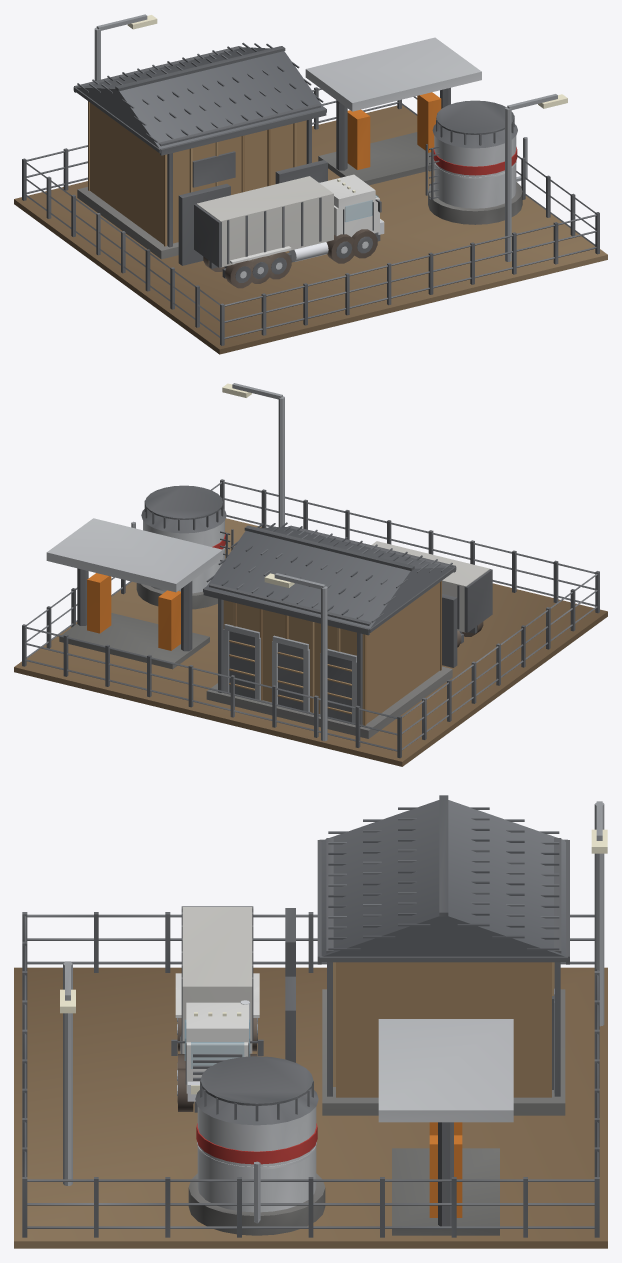
Rendered from Fleet_P1.fbx.
3 renders of one model, top to bottom at view 1: azimuth 30°, elevation 25°; view 2: azimuth 150°, elevation 25°; view 3: azimuth 270°, elevation 25°, orthographic. The views are drawn at different scales.
Visible parts, largest first — view 1: Fleet.Yard, Fleet.Garage, Fleet.Parked0, Fleet.FuelIsland, Fleet.FuelTank, Fleet.Fence, Fleet.Doors, Fleet.Lamp1, Fleet.Lamp0; view 2: Fleet.Garage, Fleet.Yard, Fleet.FuelIsland, Fleet.Fence, Fleet.FuelTank, Fleet.Parked0, Fleet.Lamp0, Fleet.Lamp1, Fleet.Doors; view 3: Fleet.Yard, Fleet.Garage, Fleet.FuelIsland, Fleet.FuelTank, Fleet.Fence, Fleet.Parked0, Fleet.Lamp1, Fleet.Lamp0, Fleet.Doors.
Part boxes in pixels (x1=…): Fleet.Yard: x1=14, y1=105, x2=607, y2=354; Fleet.Garage: x1=73, y1=42, x2=326, y2=259; Fleet.Parked0: x1=194, y1=174, x2=384, y2=288; Fleet.FuelIsland: x1=305, y1=37, x2=481, y2=185; Fleet.FuelTank: x1=425, y1=100, x2=527, y2=224; Fleet.Fence: x1=22, y1=87, x2=599, y2=345; Fleet.Doors: x1=178, y1=160, x2=327, y2=265; Fleet.Lamp1: x1=505, y1=94, x2=567, y2=261; Fleet.Lamp0: x1=94, y1=14, x2=157, y2=80; Fleet.Garage: x1=203, y1=522, x2=456, y2=738; Fleet.Yard: x1=14, y1=518, x2=607, y2=766; Fleet.FuelIsland: x1=46, y1=518, x2=222, y2=669; Fleet.Fence: x1=22, y1=479, x2=599, y2=758; Fleet.FuelTank: x1=131, y1=485, x2=233, y2=609; Fleet.Parked0: x1=371, y1=541, x2=492, y2=647; Fleet.Lamp0: x1=264, y1=573, x2=327, y2=741; Fleet.Lamp1: x1=222, y1=383, x2=284, y2=527; Fleet.Doors: x1=442, y1=594, x2=457, y2=667; Fleet.Yard: x1=14, y1=967, x2=607, y2=1248; Fleet.Garage: x1=317, y1=795, x2=569, y2=1115; Fleet.FuelIsland: x1=378, y1=1019, x2=513, y2=1235; Fleet.FuelTank: x1=188, y1=1056, x2=325, y2=1235; Fleet.Fence: x1=22, y1=912, x2=599, y2=1237; Fleet.Parked0: x1=171, y1=906, x2=263, y2=1112; Fleet.Lamp1: x1=60, y1=961, x2=75, y2=1185; Fleet.Lamp0: x1=591, y1=801, x2=607, y2=1026; Fleet.Doors: x1=285, y1=908, x2=295, y2=1062.
Bounding box in the file's own units: 2422 × 942 × 2200.
